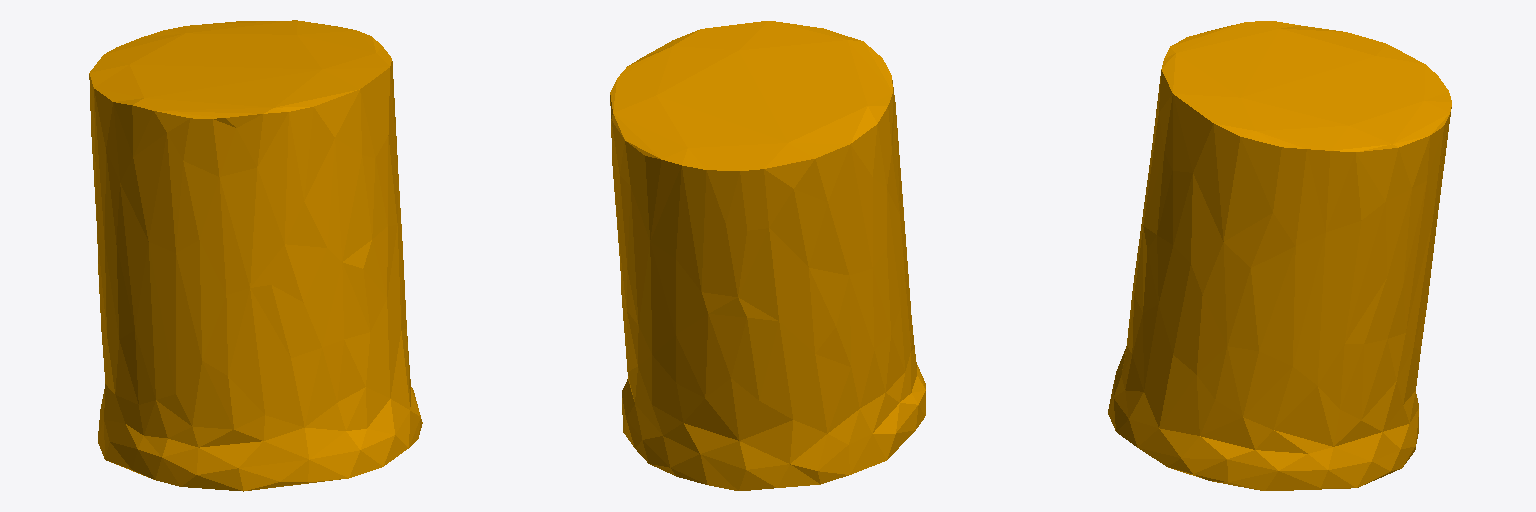
URDF robot description (OrangeMarmelade_800_tex):
<?xml version="1.0"?>
<robot name="OrangeMarmelade_800_tex">
  <link name="base_link">
    <contact>
      <lateral_friction value="1.0"/>
      <rolling_friction value="0.0"/>
      <contact_cfm value="0.0"/>
      <contact_erp value="1.0"/>
    </contact>
    <inertial>
      <mass value="0.0404091169348"/>
      <inertia ixx="1" ixy="0" ixz="0" iyy="1" iyz="0" izz="1"/>
    </inertial>
    <visual>
      <geometry>
        <mesh filename="OrangeMarmelade_800_tex_visual.obj"/>
      </geometry>
    </visual>
    <collision>
      <geometry>
        <mesh filename="OrangeMarmelade_800_tex_collision.obj"/>
      </geometry>
    </collision>
  </link>
</robot>

--- What the picture shows (computed from the rendered views, not written in the file) ---
The picture shows the robot from 3 angles, left to right: view 1: azimuth 30°, elevation 25°; view 2: azimuth 150°, elevation 25°; view 3: azimuth 270°, elevation 25°; orthographic projection.
Robot: OrangeMarmelade_800_tex — 1 links, 0 joints (none); root link base_link; default pose: all joints at 0.
Links seen in each view (by area): view 1: base_link; view 2: base_link; view 3: base_link.
Link boxes in pixels (<box>): base_link: <box>89,20,422,491</box>; base_link: <box>610,21,925,490</box>; base_link: <box>1108,21,1451,490</box>.
Size in the robot's own frame: 0.0607 by 0.0676 by 0.0805 metres.
Meshes: 1 distinct files referenced, 1 mesh visuals loaded (1 OBJ).